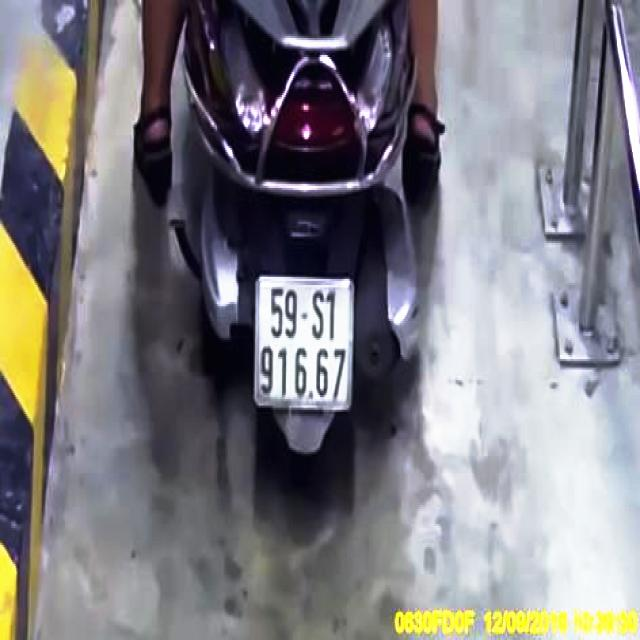license_plate: (255, 278, 354, 413)
